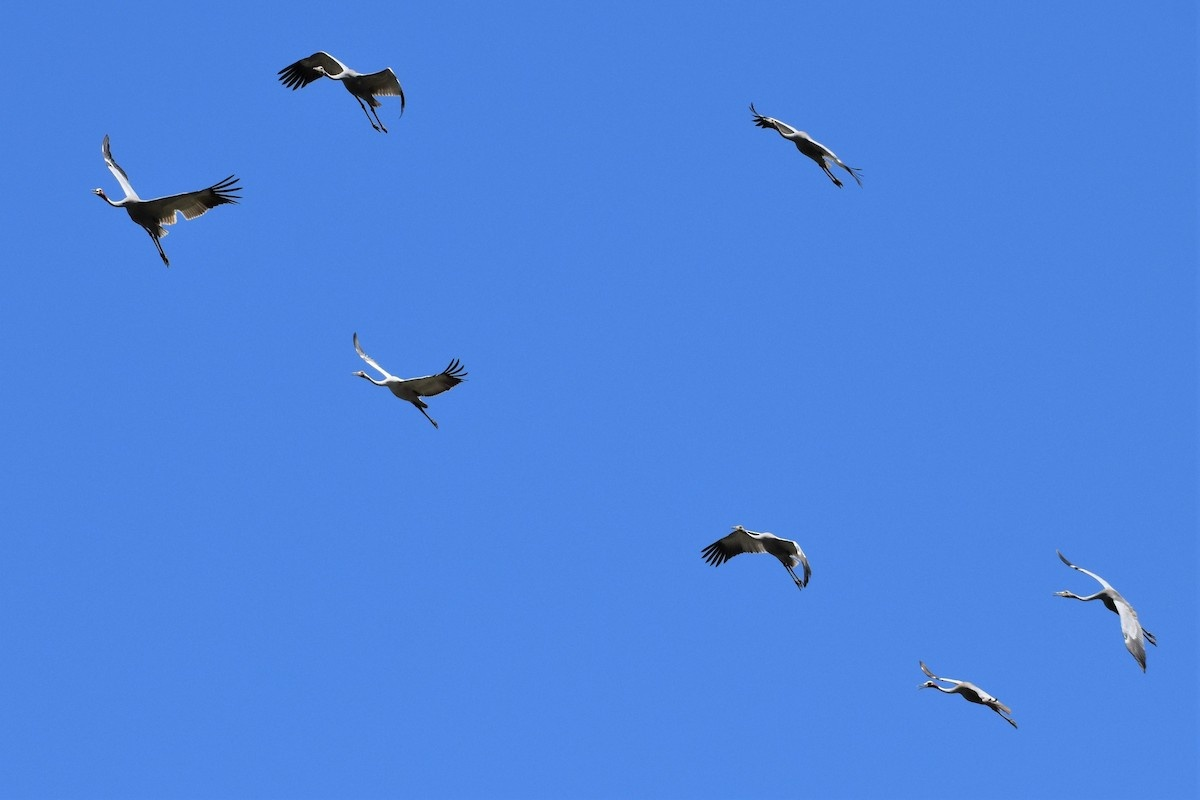crane: (87, 132, 248, 272), (279, 36, 435, 155), (1047, 542, 1172, 672), (346, 325, 474, 439), (747, 86, 866, 201), (697, 514, 830, 598), (911, 656, 1030, 732)
